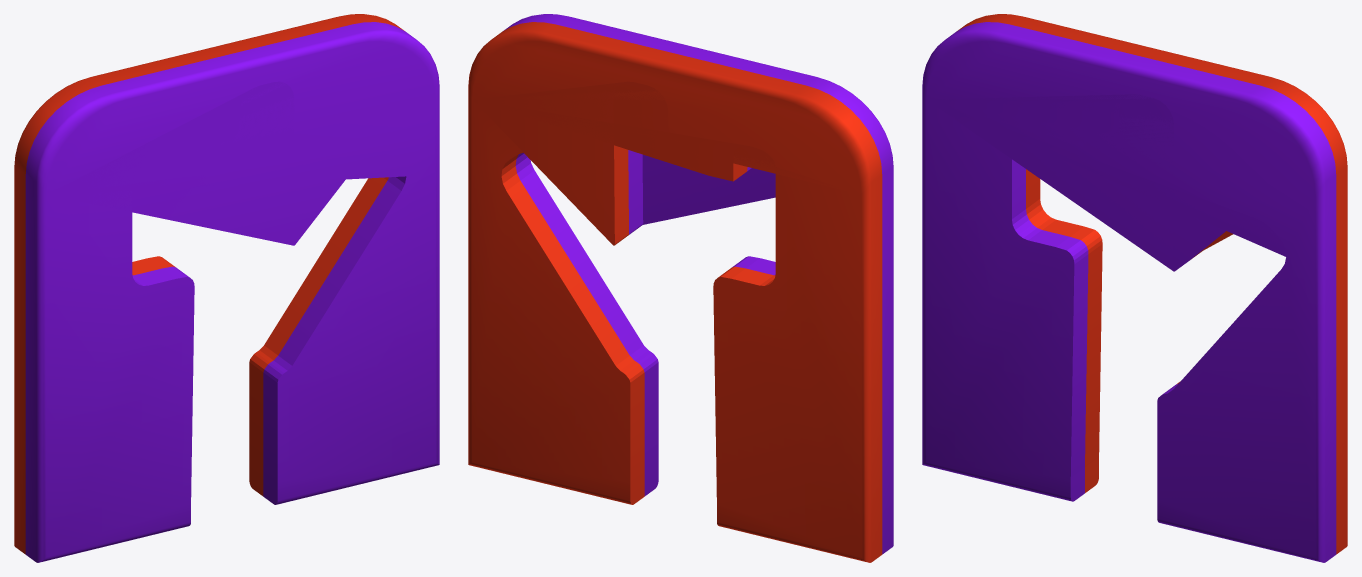
The model's file is wall_17.fbx.
3 renders of one model, left to right at view 1: azimuth 30°, elevation 25°; view 2: azimuth 150°, elevation 25°; view 3: azimuth 330°, elevation 25°, orthographic.
Parts seen in each view (by area): view 1: wall_17; view 2: wall_17; view 3: wall_17.
Boxes of the visible parts, left/top/right/bottom form: wall_17: left=14, top=14, right=439, bottom=562; wall_17: left=468, top=14, right=893, bottom=562; wall_17: left=922, top=14, right=1347, bottom=562.
Bounding box in the file's own units: 337 × 360 × 40.95.
Materials: 1 (1 with a texture image).
